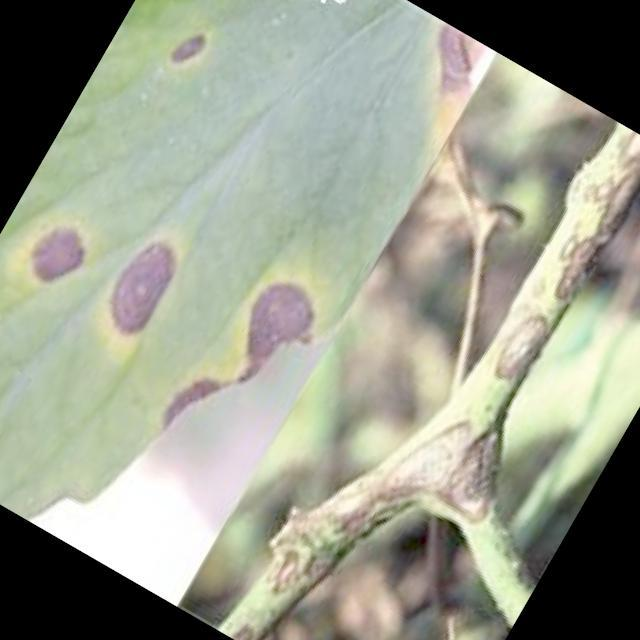Tomato Early blight leaf: (0, 0, 486, 600)
